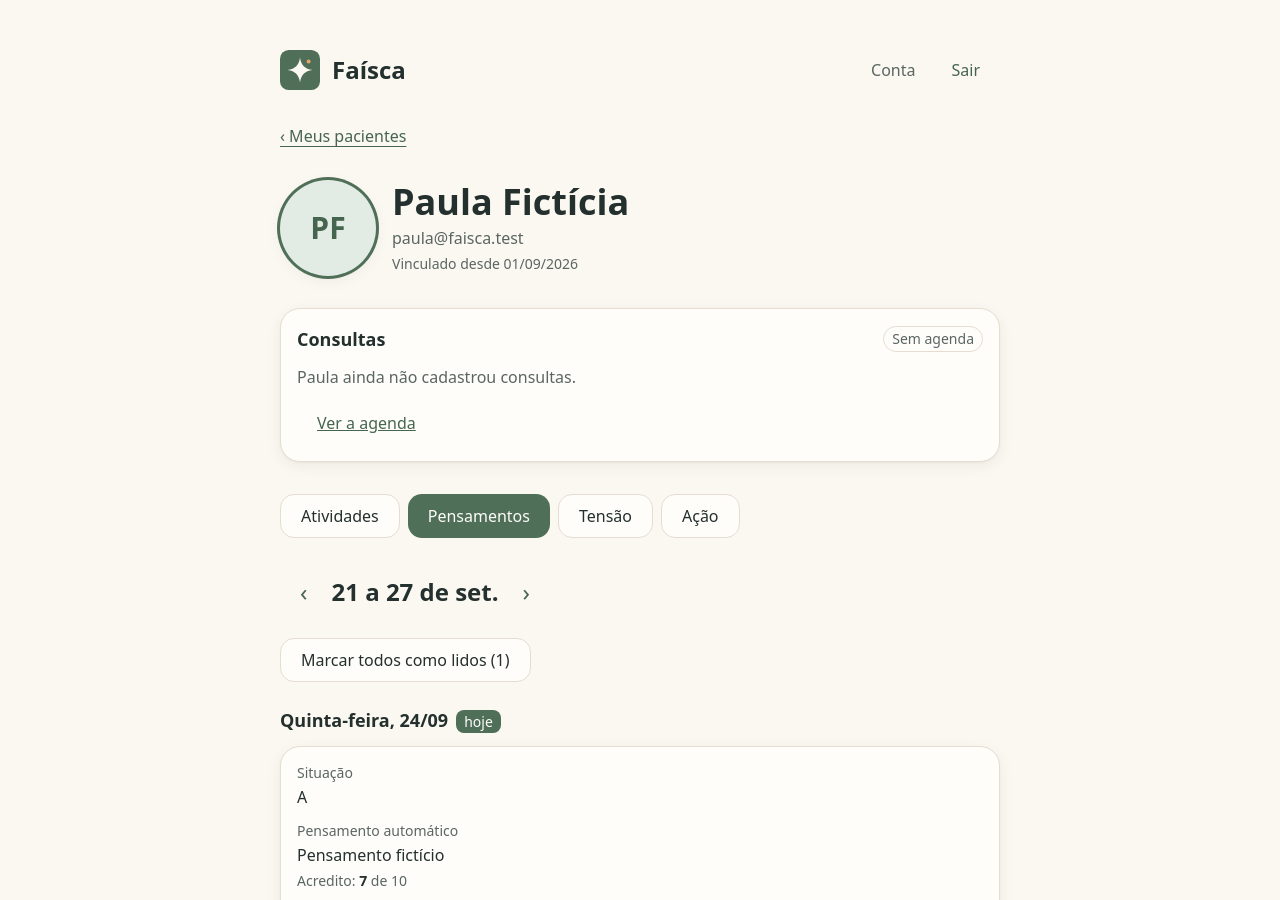
Test: "Marcar todos como lidos" › na aba, quando a lista fica sem pendentes, o foco vai para o aviso
The width and height of the screenshot is (1280, 900).
Click the button "Marcar todos como lidos (1)". click: (405, 660)
box: [280,638,530,682]
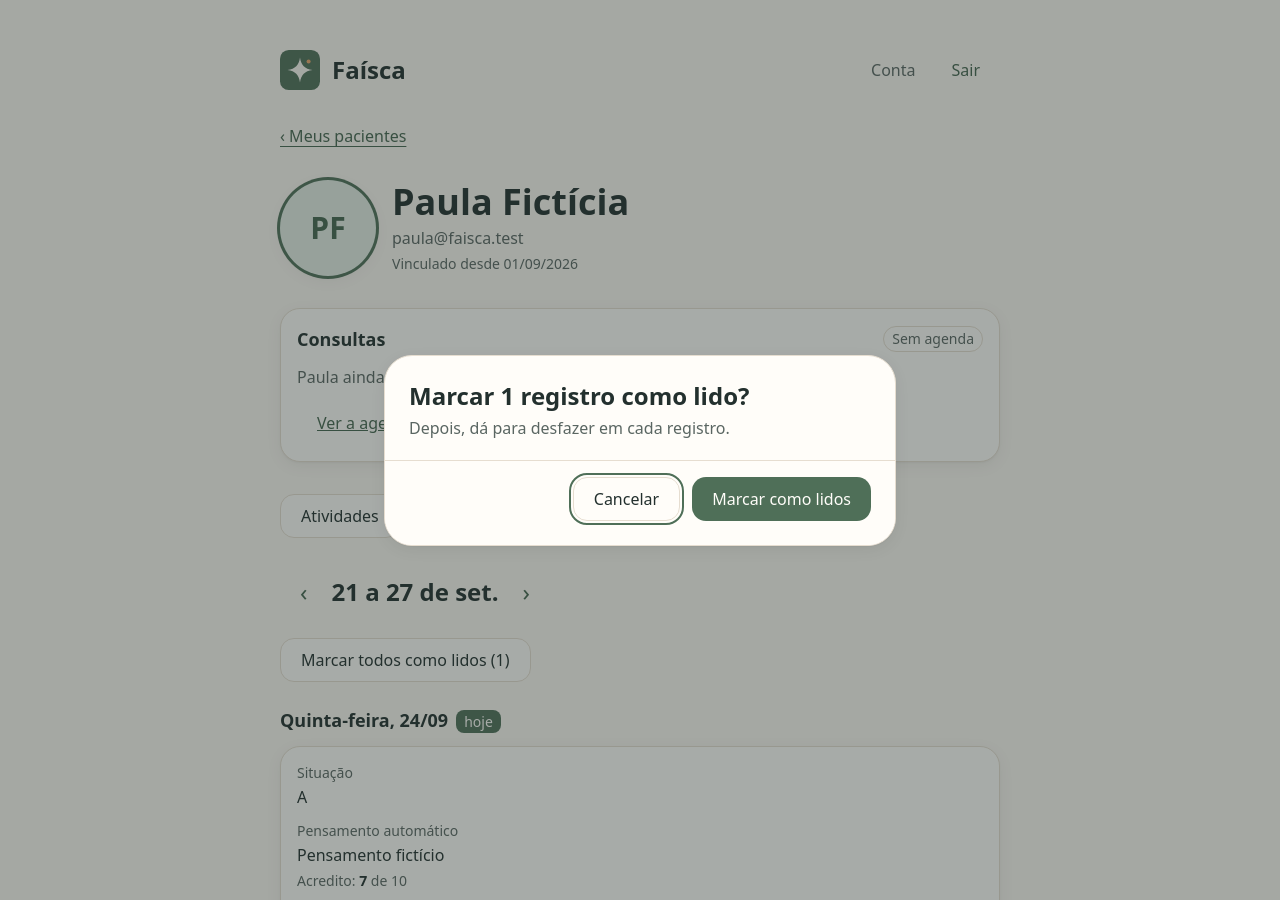
Click the button "Marcar como lidos". click: (782, 498)
box: [692,476,871,520]
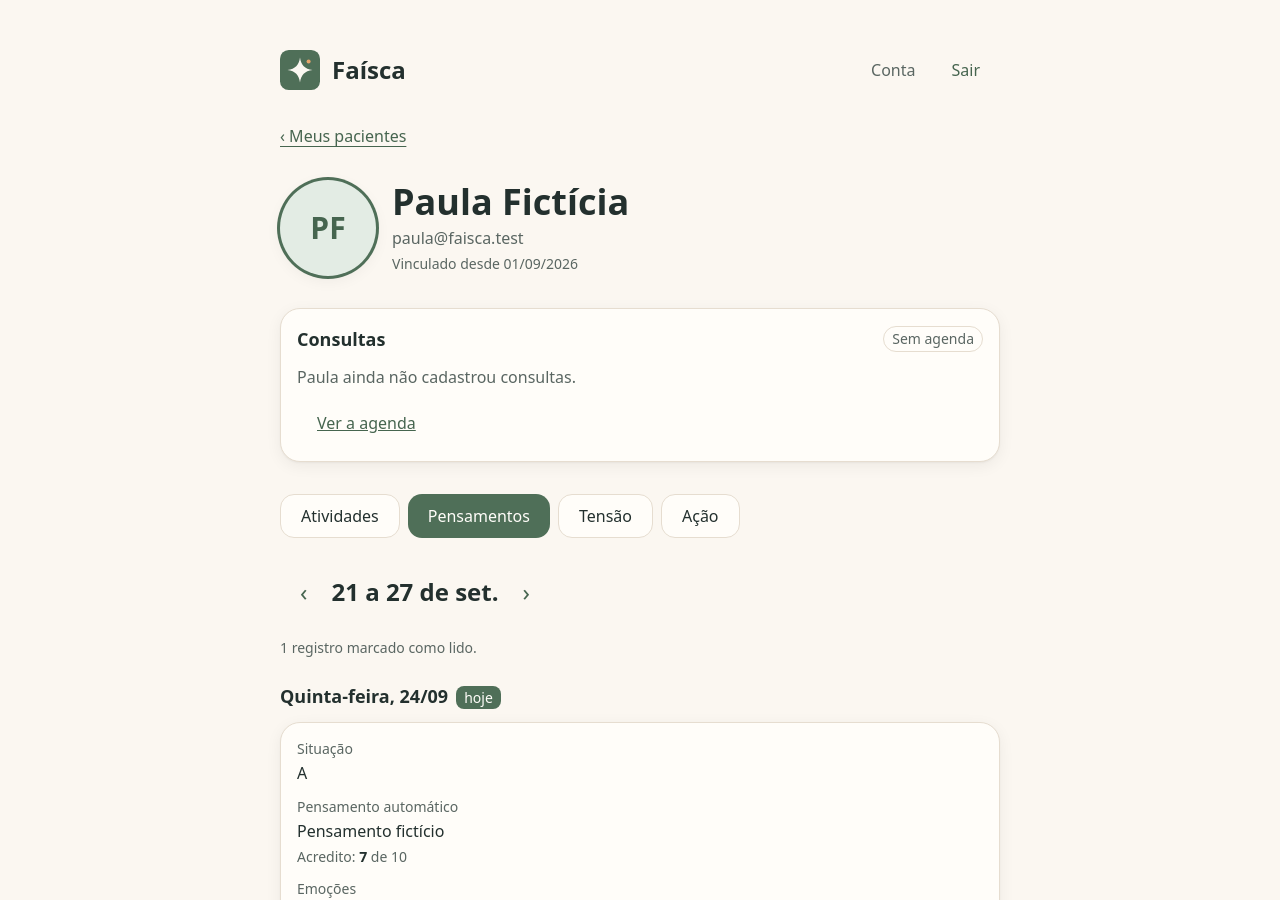
Expected: the message reads "1 registro marcado como lido.", [280,638,477,657]
